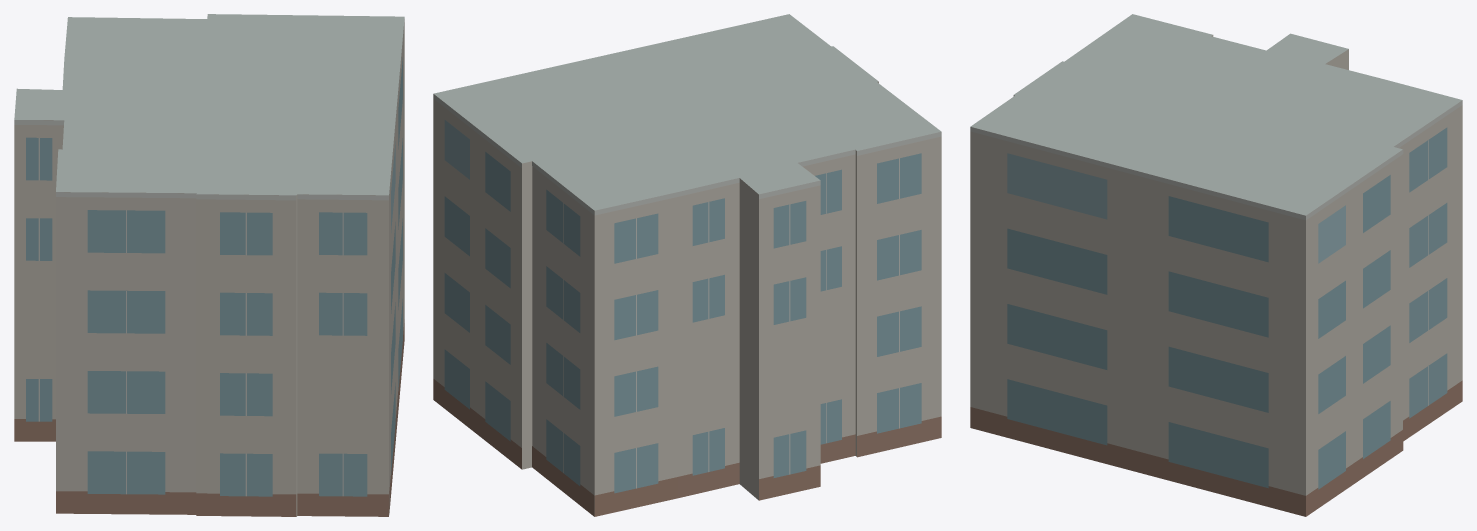
Rendered from survey-upis-32827248.glb.
3 views of the same model, side by side, from view 1: azimuth 30°, elevation 25°; view 2: azimuth 150°, elevation 25°; view 3: azimuth 270°, elevation 25° (orthographic). The views are drawn at different scales.
Visible parts, largest first — view 1: survey-upis-32827248.tmp; view 2: survey-upis-32827248.tmp; view 3: survey-upis-32827248.tmp.
Boxes of the visible parts, box(x1,y1,x2,y2) form: survey-upis-32827248.tmp: box(14, 14, 404, 516); survey-upis-32827248.tmp: box(433, 14, 941, 516); survey-upis-32827248.tmp: box(970, 14, 1462, 516).
Size of the model in its own units: 22.27 by 15.5 by 22.98.
